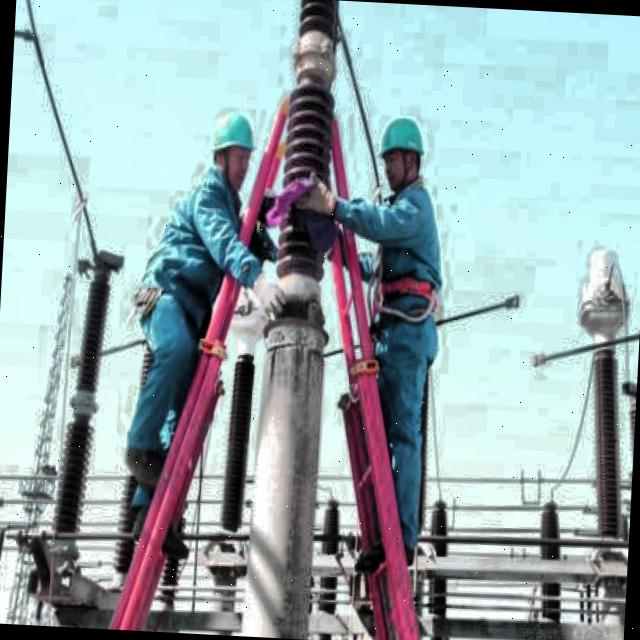helmet: (376, 109, 430, 194), (206, 107, 258, 187)
